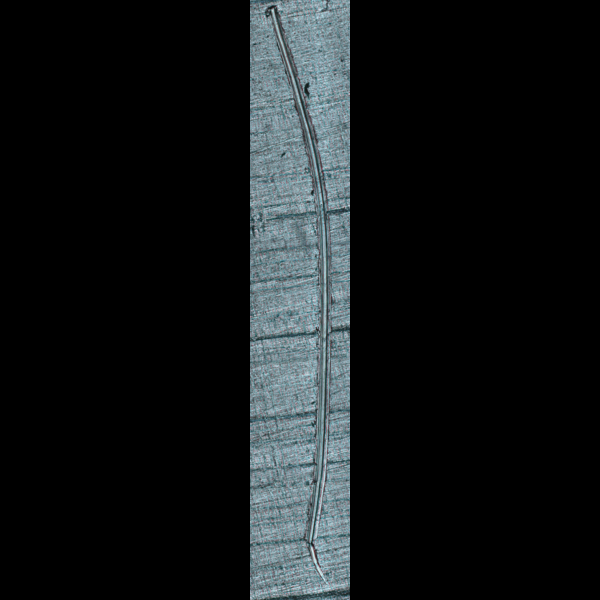d: (260, 3, 335, 588)
